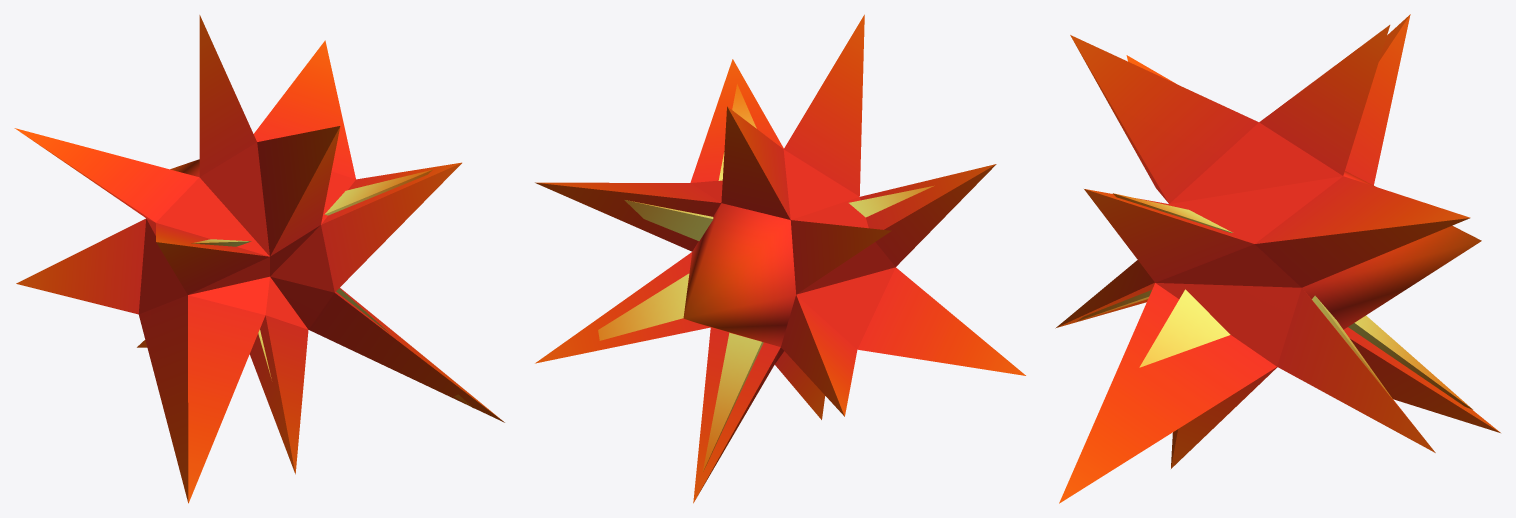
Rendered from HitFlash.FBX.
3 views of the same model, side by side, from view 1: azimuth 30°, elevation 25°; view 2: azimuth 150°, elevation 25°; view 3: azimuth 270°, elevation 25° (orthographic). The views are drawn at different scales.
Visible parts, largest first — view 1: HitFlash; view 2: HitFlash; view 3: HitFlash.
Part boxes in pixels (x1,y1,x2,y2): HitFlash: [14, 15, 504, 503]; HitFlash: [535, 14, 1025, 503]; HitFlash: [1055, 14, 1500, 503].
Bounding box in the file's own units: 236 × 249 × 227.
1 material, 1 textured.
